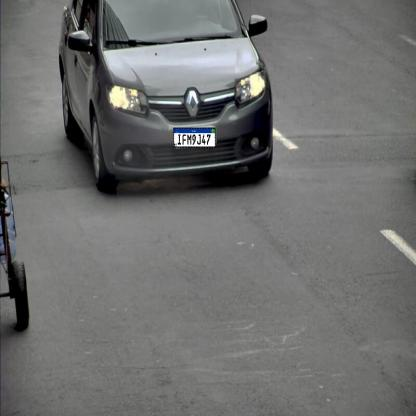PlacaM: (173, 127, 216, 148)
